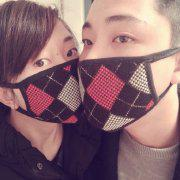OK: (13, 42, 92, 121)
WRONG: (79, 16, 176, 133)
